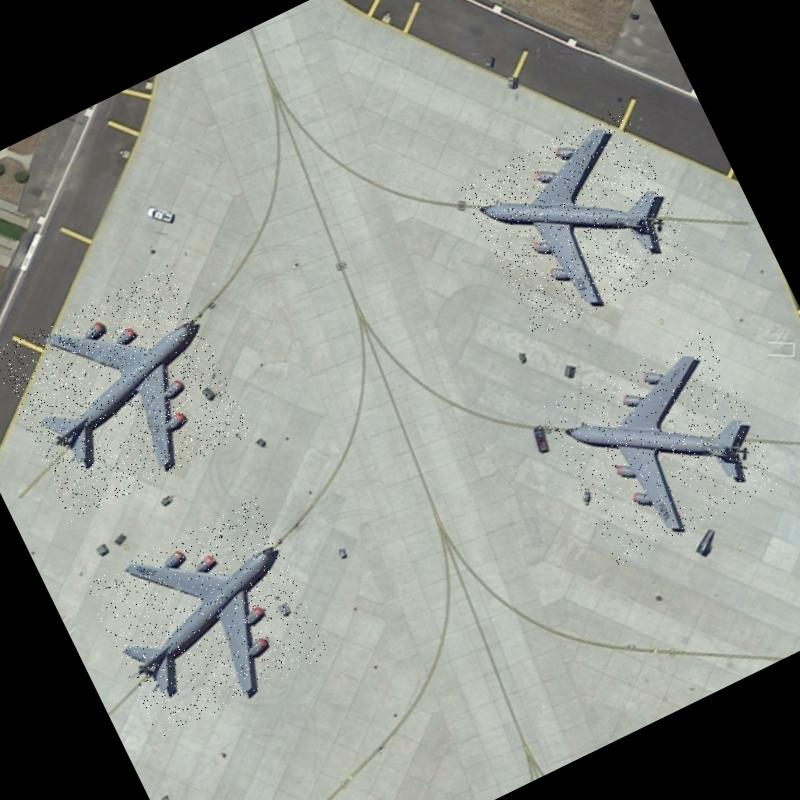A14: (0, 263, 252, 521), (83, 497, 332, 739), (540, 326, 782, 566), (458, 104, 697, 339)
